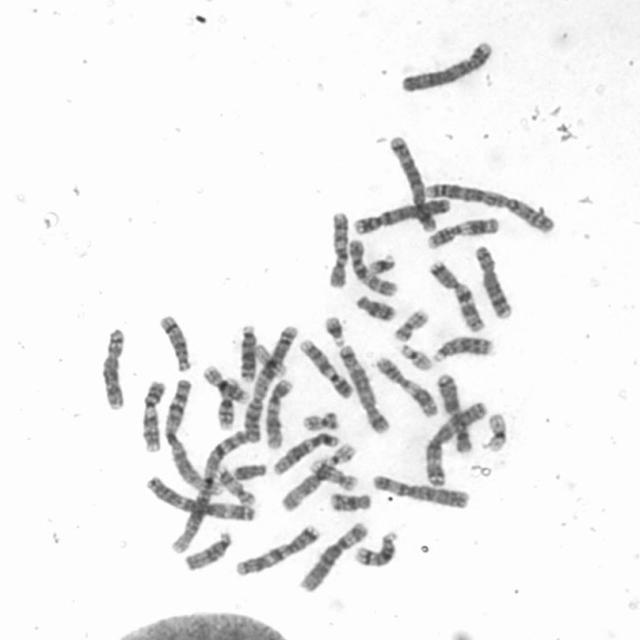A1: (169, 432, 248, 556), (163, 376, 225, 496)
A2: (423, 179, 554, 235), (243, 326, 300, 443)
A3: (144, 475, 256, 522), (426, 402, 488, 486)
B4: (400, 41, 493, 95), (353, 198, 450, 236)
B5: (386, 135, 437, 233), (336, 344, 391, 433)
C10: (348, 238, 401, 299), (326, 211, 350, 292)
C11: (376, 355, 439, 419), (425, 215, 499, 250)
C12: (273, 431, 341, 475), (264, 379, 294, 450)
C6: (297, 521, 368, 593), (370, 474, 470, 511)
C7: (234, 524, 326, 578), (426, 260, 486, 332)
C8: (474, 246, 512, 318), (100, 324, 128, 412)
C9: (298, 338, 354, 399), (140, 381, 166, 454)
D13: (433, 336, 495, 364), (238, 324, 258, 383)
D14: (159, 314, 193, 374), (352, 531, 402, 567)
D15: (279, 466, 329, 512), (184, 530, 234, 573)
E16: (203, 362, 249, 404), (216, 376, 238, 432)
E17: (308, 458, 359, 493), (217, 467, 254, 507)
E18: (354, 293, 395, 322), (330, 492, 372, 512)
F19: (256, 343, 285, 380), (483, 412, 509, 453)
F20: (394, 311, 431, 342), (303, 409, 339, 432)
G21: (322, 315, 347, 348), (368, 254, 396, 274)
G22: (400, 344, 433, 372), (327, 444, 359, 466)
X: (434, 373, 474, 453)
Y: (234, 463, 267, 481)
